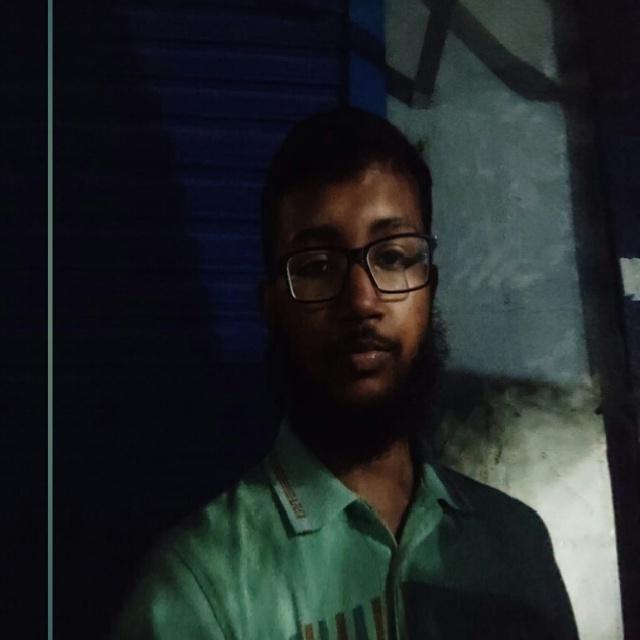Natural: (126, 116, 496, 442)
